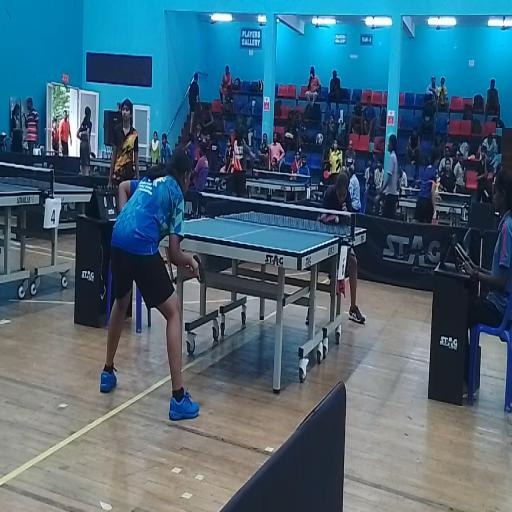ball: (334, 216, 340, 224)
